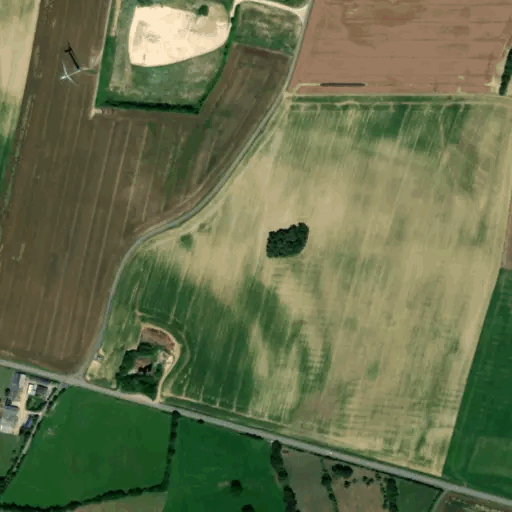wt: (56, 38, 91, 92)
